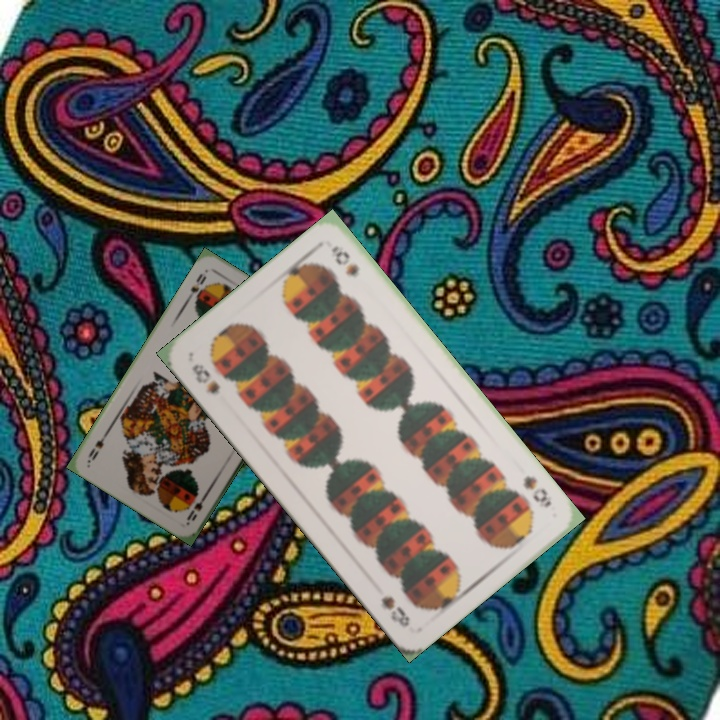S8: (518, 471, 555, 511), (188, 359, 223, 397)
SO: (183, 489, 210, 526), (183, 269, 209, 303)
